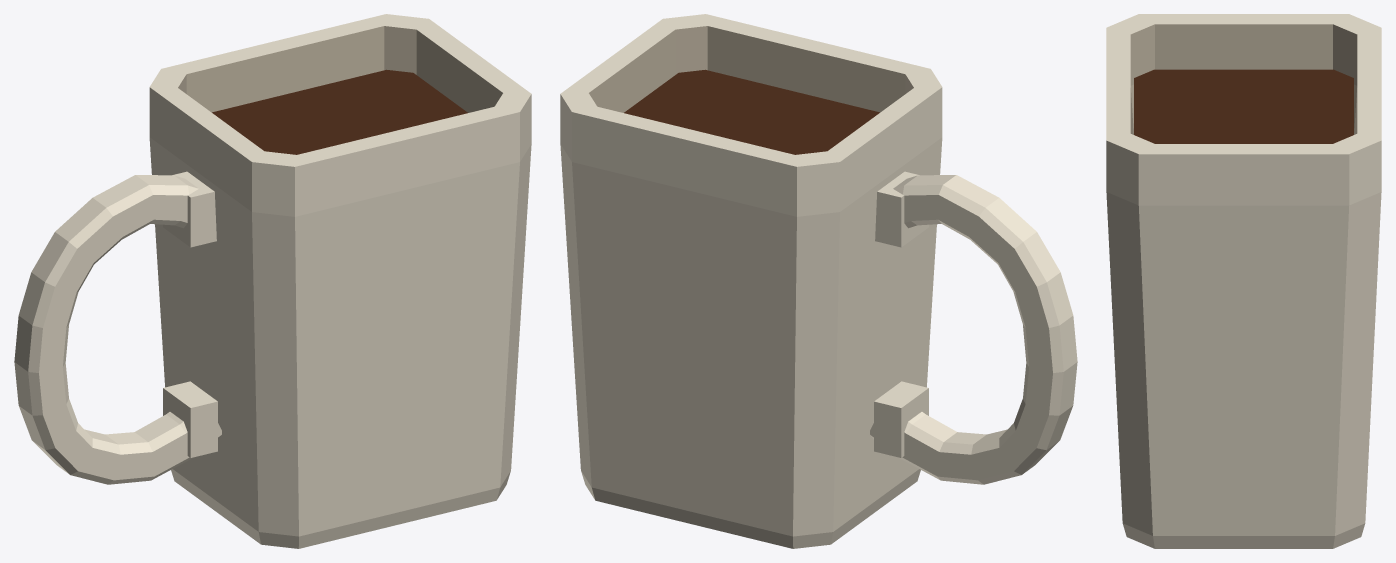
File: RegularDad_Mug.fbx
3 views of the same model, side by side, from view 1: azimuth 30°, elevation 25°; view 2: azimuth 150°, elevation 25°; view 3: azimuth 270°, elevation 25° (orthographic). The views are drawn at different scales.
Parts seen in each view (by area): view 1: Mug_Geo.001; view 2: Mug_Geo.001; view 3: Mug_Geo.001.
Part boxes in pixels (bbox=[...]): Mug_Geo.001: bbox=[14, 14, 531, 548]; Mug_Geo.001: bbox=[560, 14, 1077, 548]; Mug_Geo.001: bbox=[1106, 14, 1381, 548].
Bounding box in the file's own units: 1.35 × 1.1 × 0.68.
Materials: 1 (1 with a texture image).
